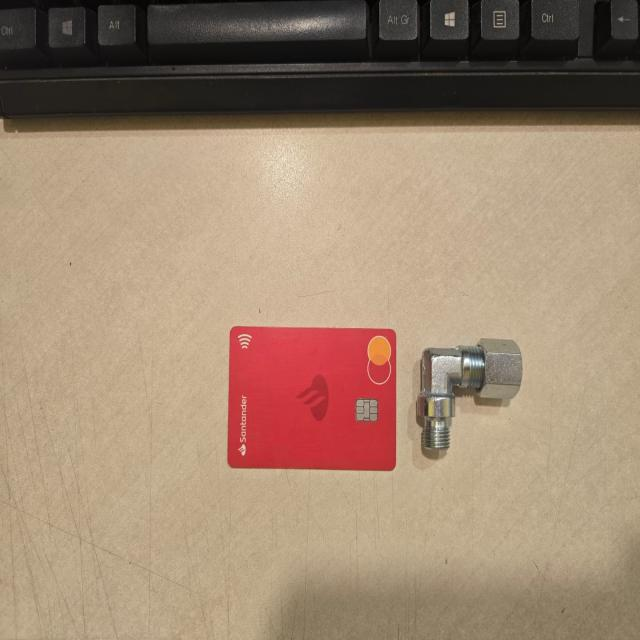cartao: (229, 326, 397, 470)
rosca_externa: (418, 338, 523, 450)
